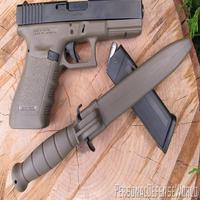knife: (10, 33, 189, 187)
